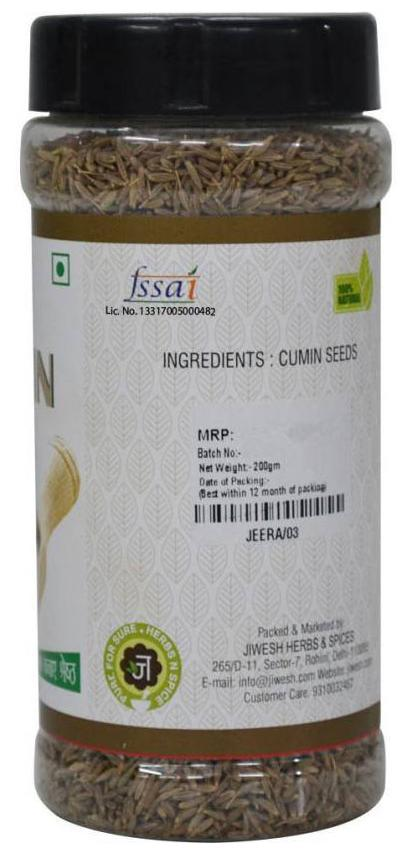fssai: (125, 266, 202, 303)
